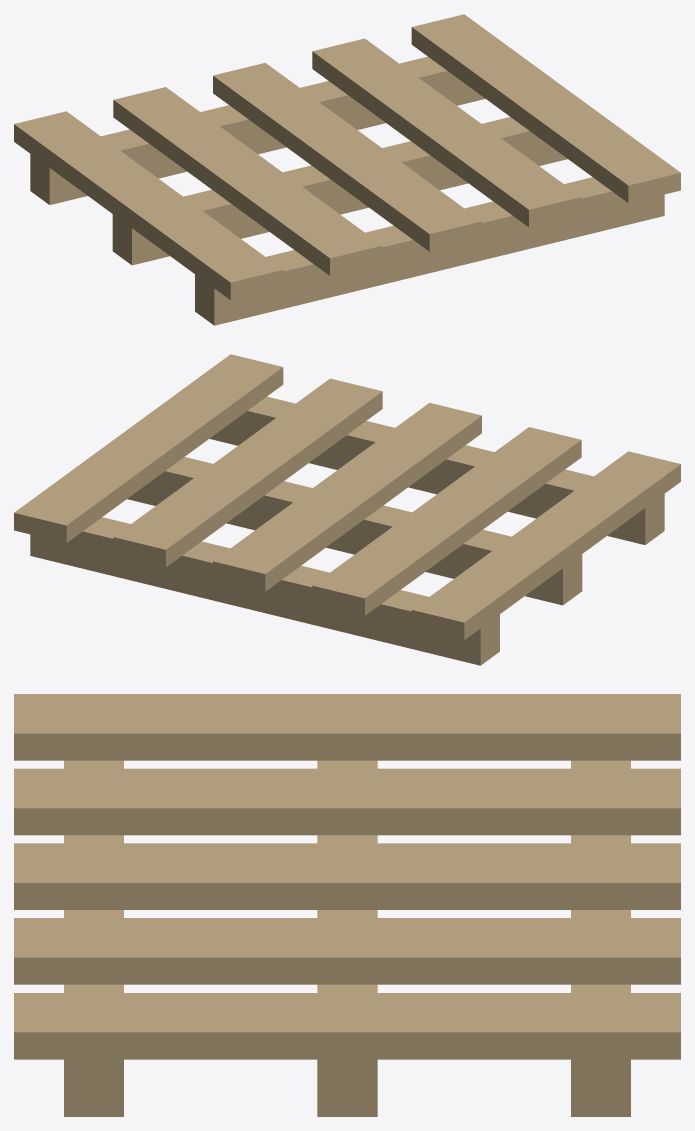
File: palete.fbx
3 views of the same model, one above another, from view 1: azimuth 30°, elevation 25°; view 2: azimuth 150°, elevation 25°; view 3: azimuth 270°, elevation 25° (orthographic). The views are drawn at different scales.
Parts seen in each view (by area): view 1: palete; view 2: palete; view 3: palete.
Boxes of the visible parts, x1=… form: palete: x1=14, y1=14, x2=680, y2=325; palete: x1=14, y1=354, x2=680, y2=665; palete: x1=14, y1=694, x2=680, y2=1116.
Size of the model in its own units: 120 by 14 by 100.
